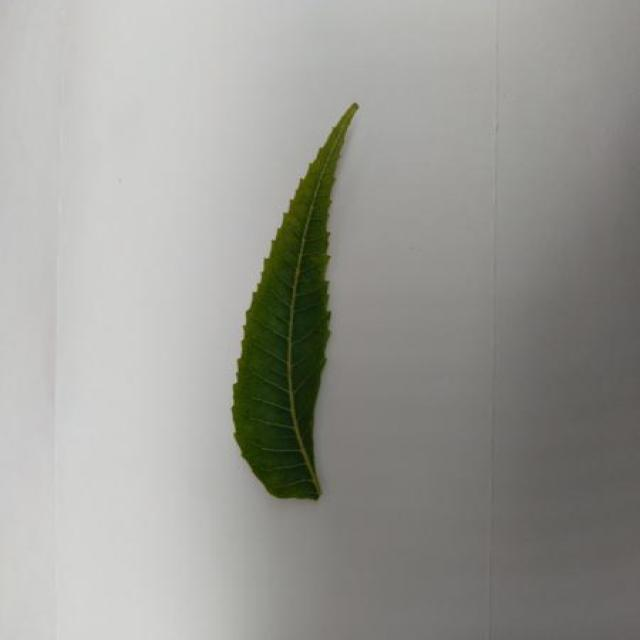neem: (233, 102, 358, 499)
